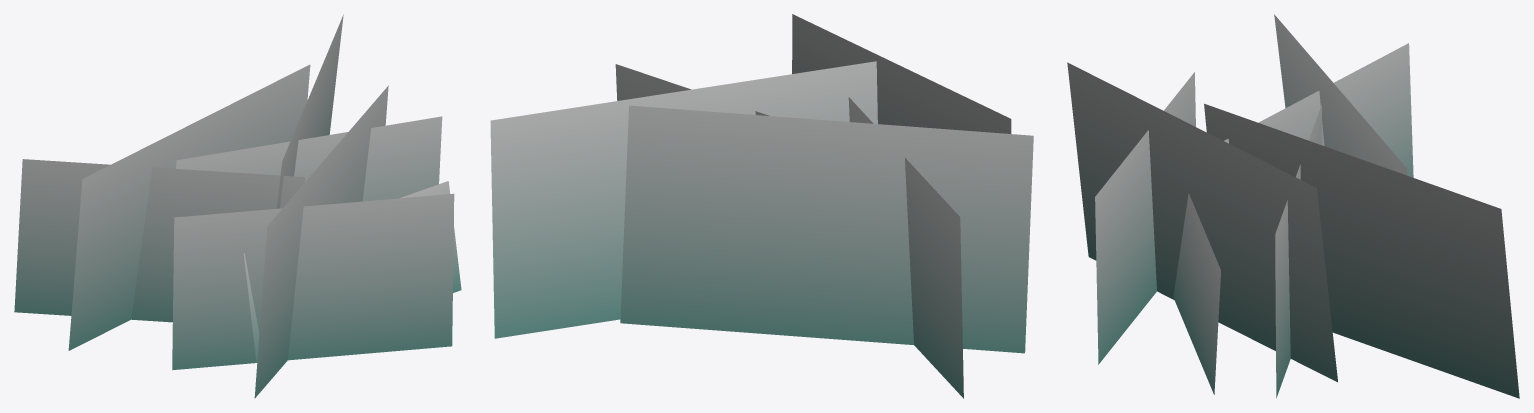
Rendered from tuft-medium.glb.
The picture shows the model from 3 angles, left to right: view 1: azimuth 30°, elevation 25°; view 2: azimuth 150°, elevation 25°; view 3: azimuth 270°, elevation 25°; orthographic projection. The views are drawn at different scales.
Parts seen in each view (by area): view 1: tuft-medium; view 2: tuft-medium; view 3: tuft-medium.
Boxes of the visible parts, x1,y1,x2,y2 form: tuft-medium: (14,14,461,398); tuft-medium: (490,14,1033,398); tuft-medium: (1067,14,1519,398).
Bounding box in the file's own units: 0.9063 × 0.4208 × 0.8792.
